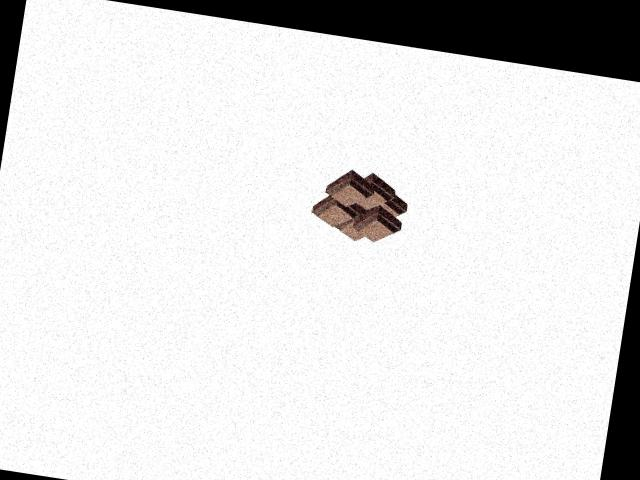chocolate: (309, 167, 414, 251)
